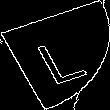L_NW: (23, 25, 87, 85)
